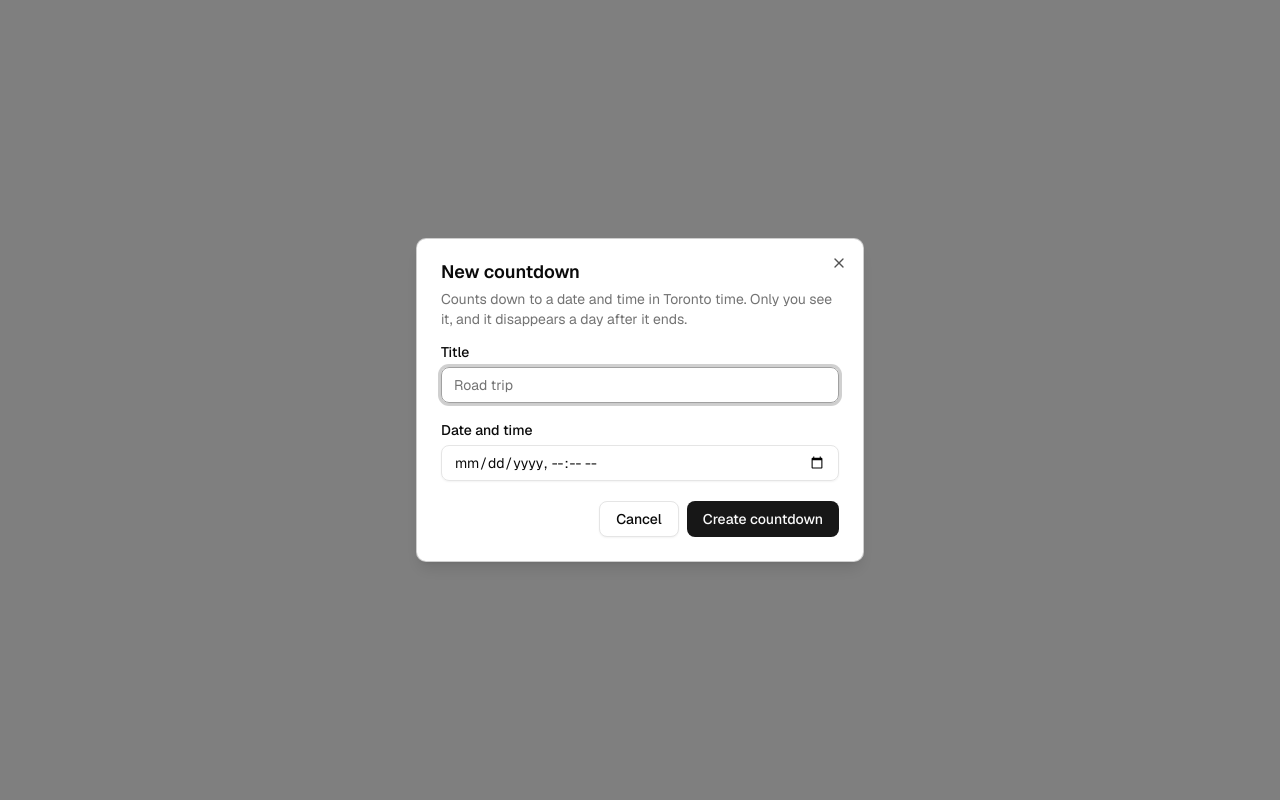
CountdownDialog › does not close while a save is in flight
Later steps or results of the test are not shown.
Step 1. Type "Trip" into the field labelled "Title" → (640, 385), box [441,367,839,403]
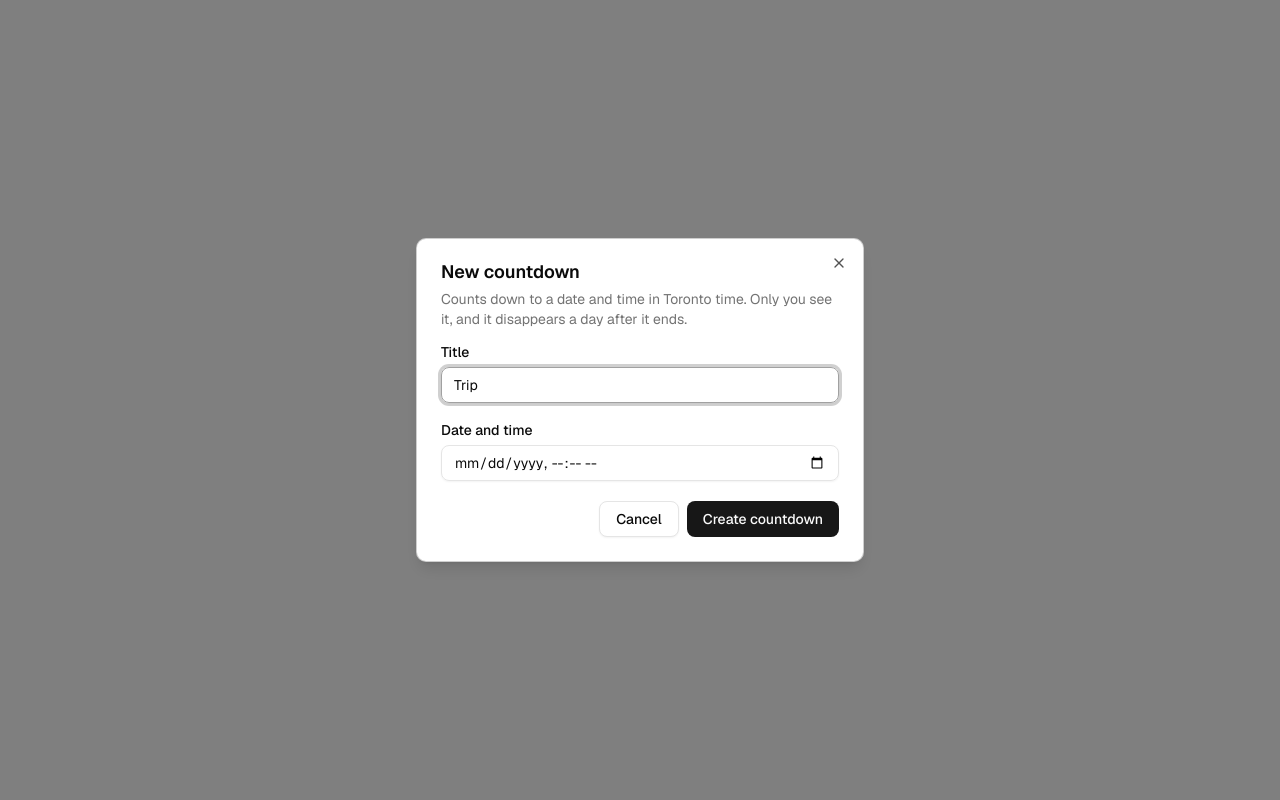
Step 2. Type "2026-12-01T15:00" into the field labelled "Date and time" → (640, 463), box [441,445,839,481]
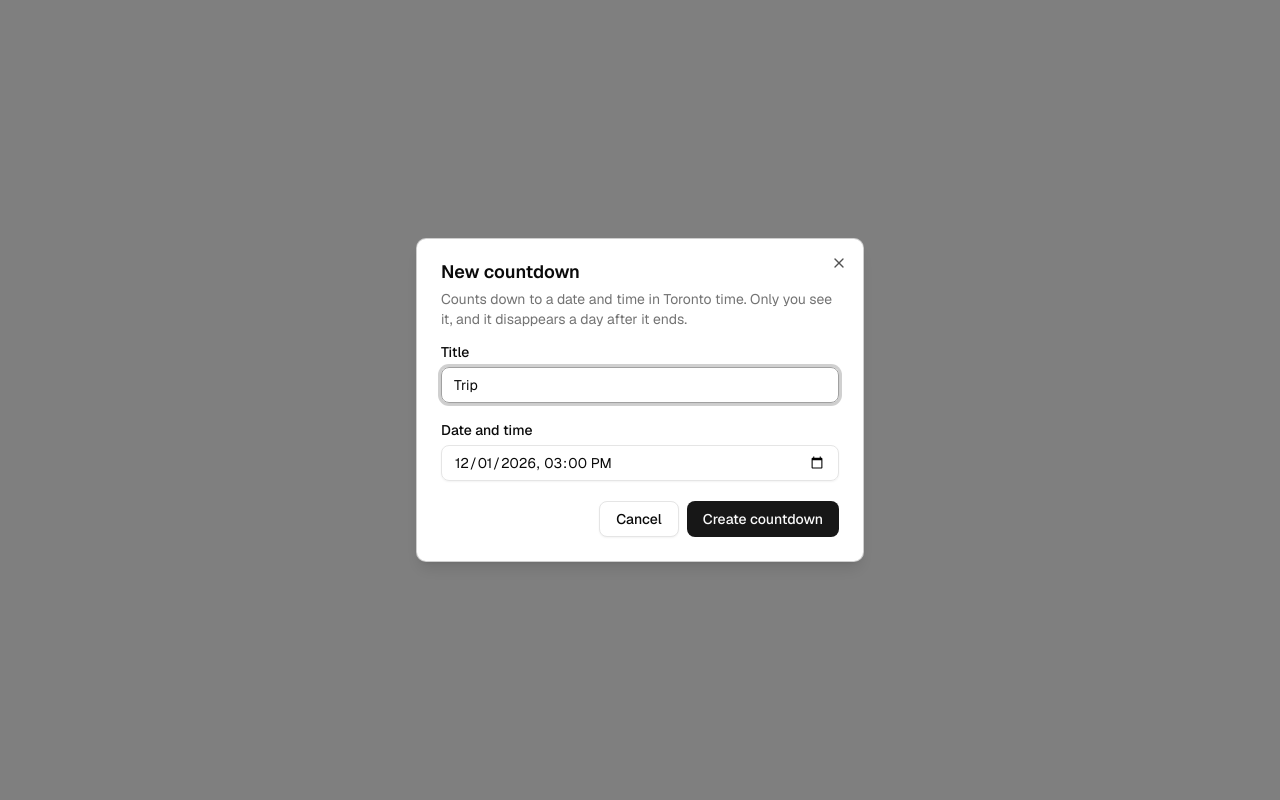
Step 3. Click the button "Create countdown" → click(763, 519), box [687,501,839,537]
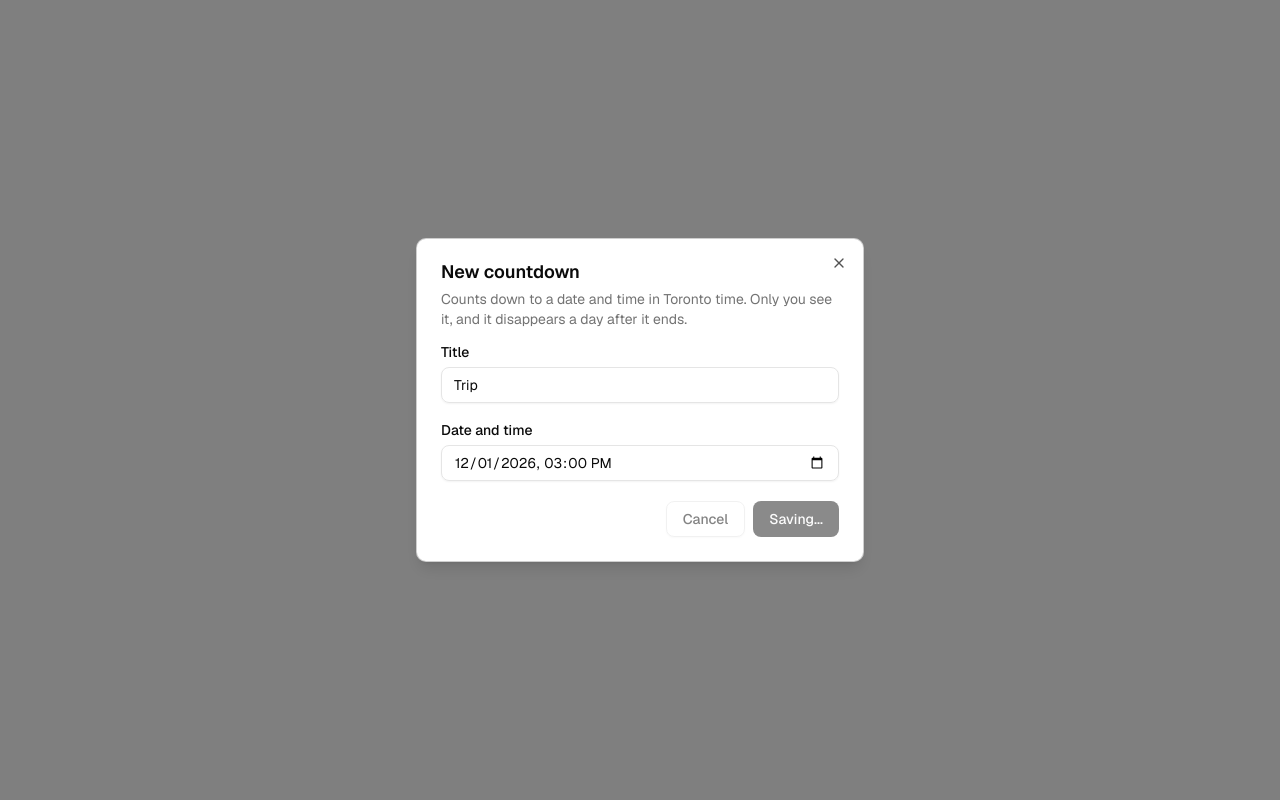
Check: the button "Saving..." is disabled, box [753,501,839,537]
